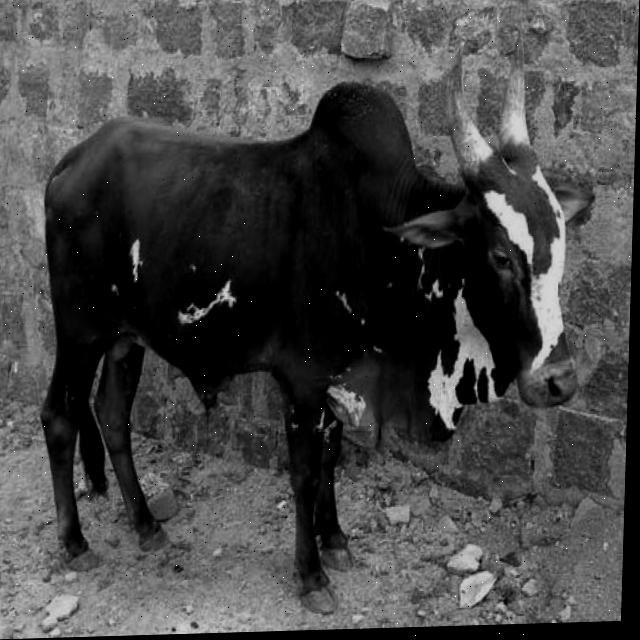Cow: (29, 41, 600, 624)
